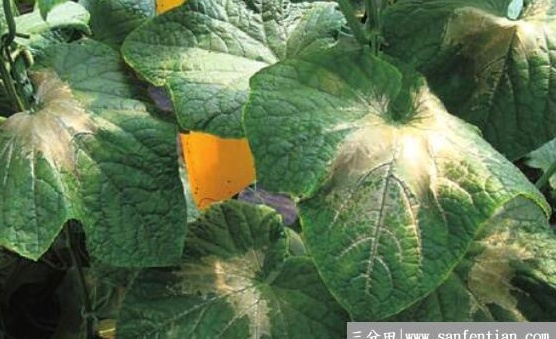cucumber_plant: (254, 42, 524, 315), (6, 27, 192, 266)
